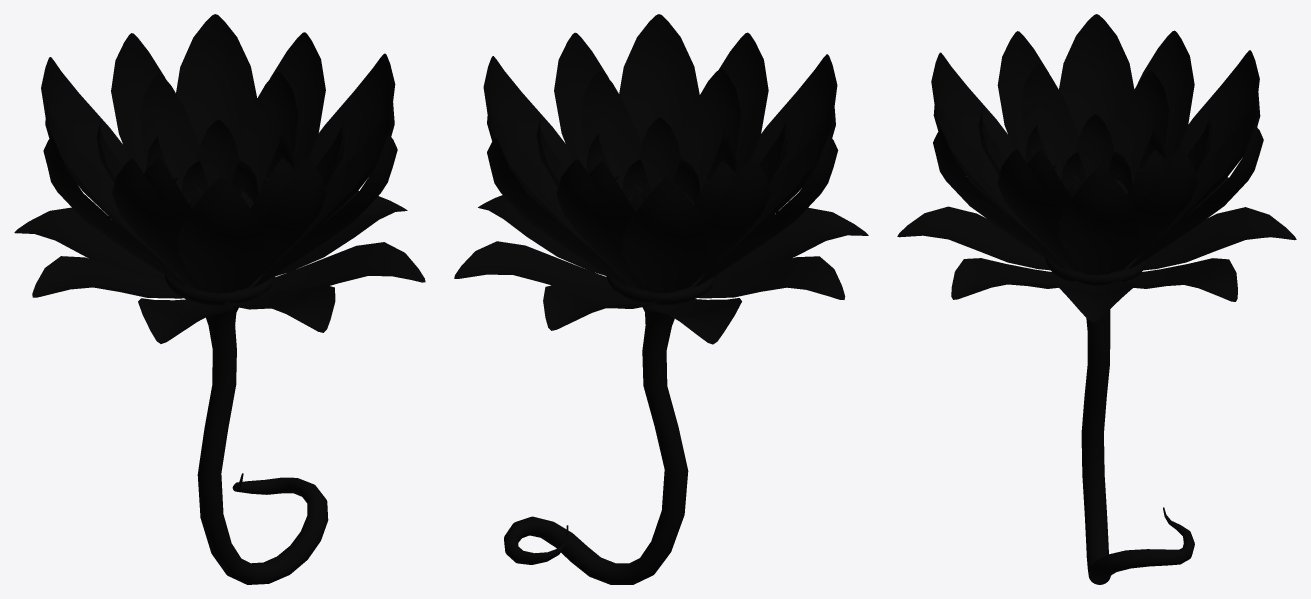
File: flowers.glb
3 renders of one model, left to right at view 1: azimuth 30°, elevation 25°; view 2: azimuth 150°, elevation 25°; view 3: azimuth 270°, elevation 25°, orthographic. The views are drawn at different scales.
Visible parts, largest first — view 1: node_id33; view 2: node_id33; view 3: node_id33.
Boxes of the visible parts, bbox=[...] form: node_id33: bbox=[14, 14, 425, 584]; node_id33: bbox=[454, 14, 868, 584]; node_id33: bbox=[897, 14, 1296, 584].
Bounding box in the file's own units: 0.0855 × 0.1101 × 0.0855.
1 material, 1 textured.
